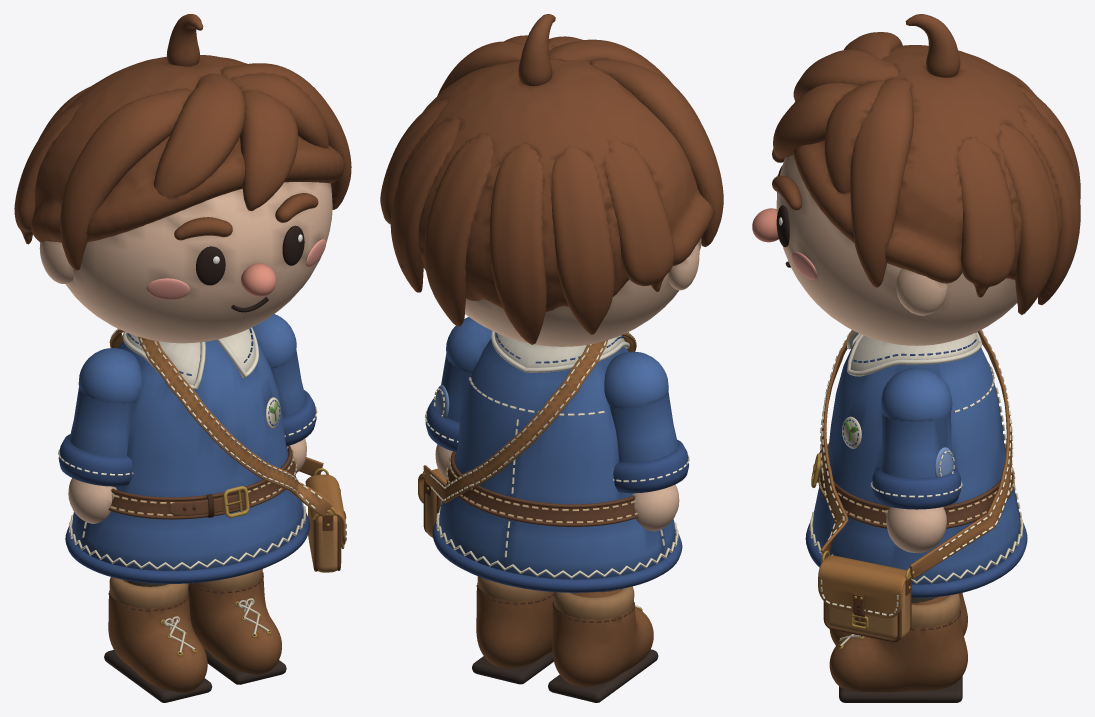
File: player.glb
3 views of the same model, side by side, from view 1: azimuth 30°, elevation 25°; view 2: azimuth 150°, elevation 25°; view 3: azimuth 270°, elevation 25° (orthographic). The views are drawn at different scales.
Parts seen in each view (by area): view 1: head, body, arm_r, leg_r, leg_l, arm_l; view 2: head, body, arm_r, leg_r, leg_l, arm_l; view 3: head, body, arm_l, leg_l.
Boxes of the visible parts, left/top/right/bottom form: head: left=14, top=14, right=351, bottom=343; body: left=65, top=327, right=346, bottom=583; arm_r: left=58, top=348, right=141, bottom=523; leg_r: left=104, top=577, right=212, bottom=702; leg_l: left=188, top=569, right=286, bottom=684; arm_l: left=252, top=314, right=317, bottom=472; head: left=380, top=14, right=723, bottom=346; body: left=418, top=331, right=682, bottom=592; arm_r: left=604, top=351, right=689, bottom=531; leg_r: left=548, top=586, right=658, bottom=702; leg_l: left=472, top=576, right=553, bottom=684; arm_l: left=425, top=317, right=491, bottom=479; head: left=752, top=14, right=1080, bottom=345; body: left=805, top=329, right=1027, bottom=642; arm_l: left=870, top=367, right=962, bottom=552; leg_l: left=829, top=593, right=967, bottom=702.
Size of the model in its own units: 0.6946 by 1.49 by 0.6688.
